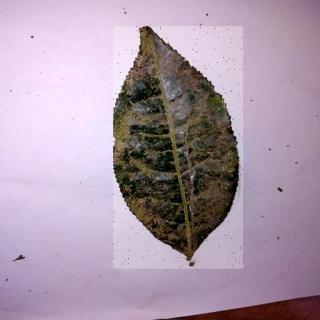Anthracnose: (115, 28, 245, 270)
